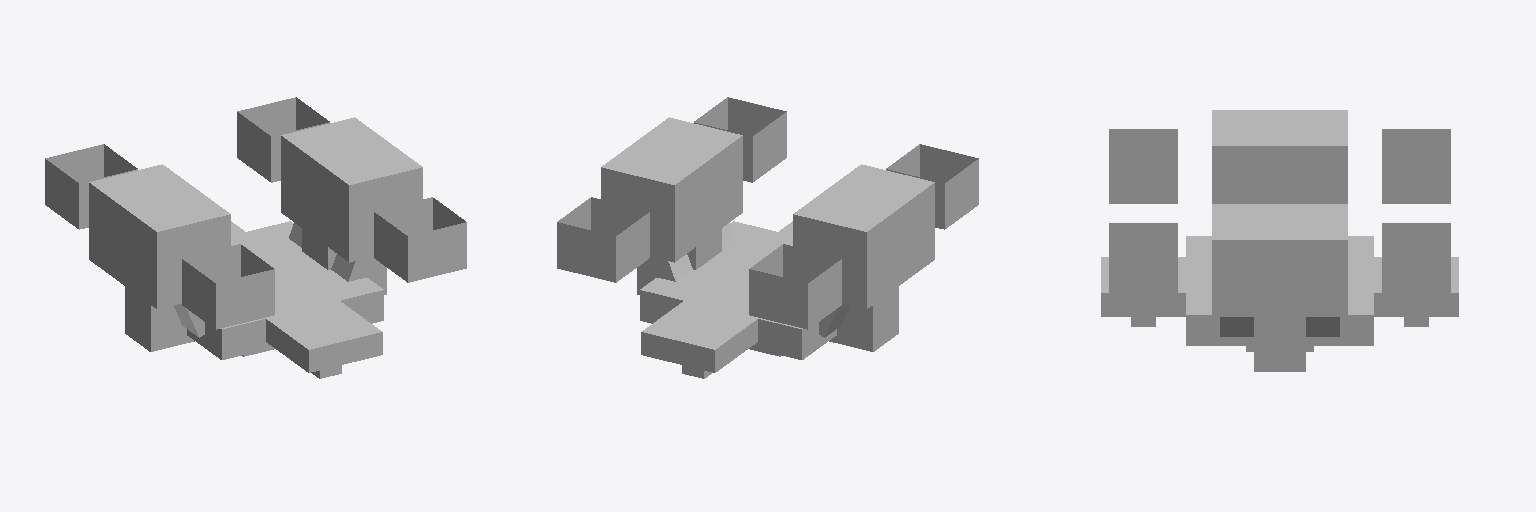
The model's file is frame_upside_down.obj.
3 renders of one model, left to right at view 1: azimuth 30°, elevation 25°; view 2: azimuth 150°, elevation 25°; view 3: azimuth 270°, elevation 25°, orthographic.
Parts seen in each view (by area): view 1: cube_4, cube_15, cube_1, cube_17, cube_10, cube_2, cube_16, cube_3, cube_6, cube_12, cube_13, cube_9; view 2: cube_4, cube_15, cube_1, cube_16, cube_3, cube_11, cube_17, cube_10, cube_6, cube_14, cube_13, cube_5; view 3: cube_15, cube_4, cube_1, cube_3, cube_10, cube_16, cube_17, cube_13, cube_2, cube_11, cube_12, cube_14.
Part boxes in pixels (x1,y1,x2,y2): cube_4: (89,164,230,308); cube_15: (281,117,422,262); cube_1: (187,221,383,359); cube_17: (374,197,466,282); cube_10: (182,244,274,329); cube_2: (266,301,382,372); cube_16: (237,97,329,182); cube_3: (45,144,137,229); cube_6: (125,286,194,351); cube_12: (331,254,382,283); cube_13: (302,228,386,294); cube_9: (174,304,204,337); cube_4: (793,164,934,308); cube_15: (601,117,742,262); cube_1: (640,221,836,359); cube_16: (557,197,649,282); cube_3: (749,244,841,329); cube_11: (641,301,757,372); cube_17: (694,97,786,182); cube_10: (886,144,978,229); cube_6: (829,286,898,351); cube_14: (641,254,692,283); cube_13: (637,228,721,294); cube_5: (819,304,849,337); cube_15: (1212,204,1347,316); cube_4: (1212,110,1347,203); cube_1: (1186,236,1373,345); cube_3: (1382,129,1450,203); cube_10: (1109,129,1177,203); cube_16: (1382,223,1450,297); cube_17: (1109,223,1177,297); cube_13: (1254,317,1305,371); cube_2: (1101,257,1185,316); cube_11: (1374,257,1458,316); cube_12: (1220,317,1253,336); cube_14: (1306,317,1339,336).
Size of the model in its own units: 2.25 by 1.31 by 2.62.